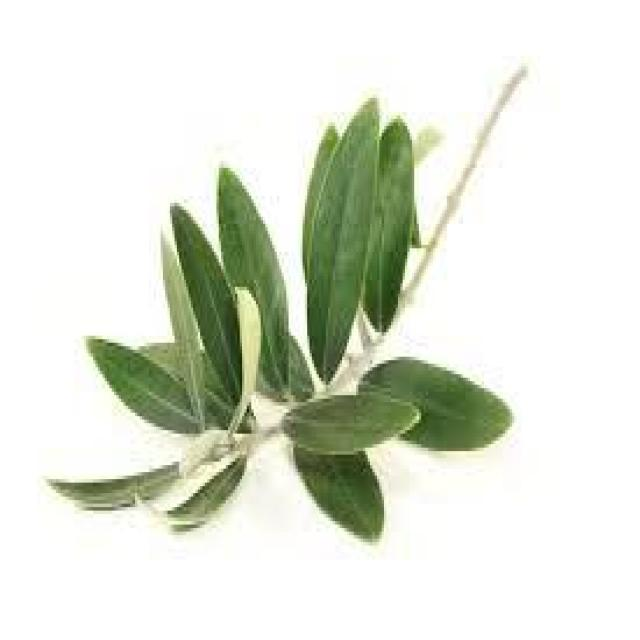Healthy: (307, 101, 379, 378), (282, 392, 419, 451)
